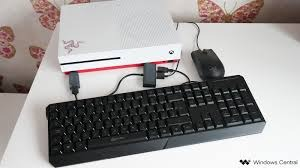keyboard: (40, 85, 268, 168)
mouse: (186, 45, 227, 85)
